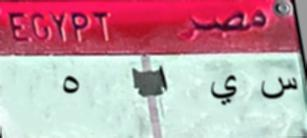5: (52, 72, 87, 102)
alif: (156, 65, 172, 98)
seen: (255, 72, 298, 108)
yaa: (207, 72, 242, 108)
